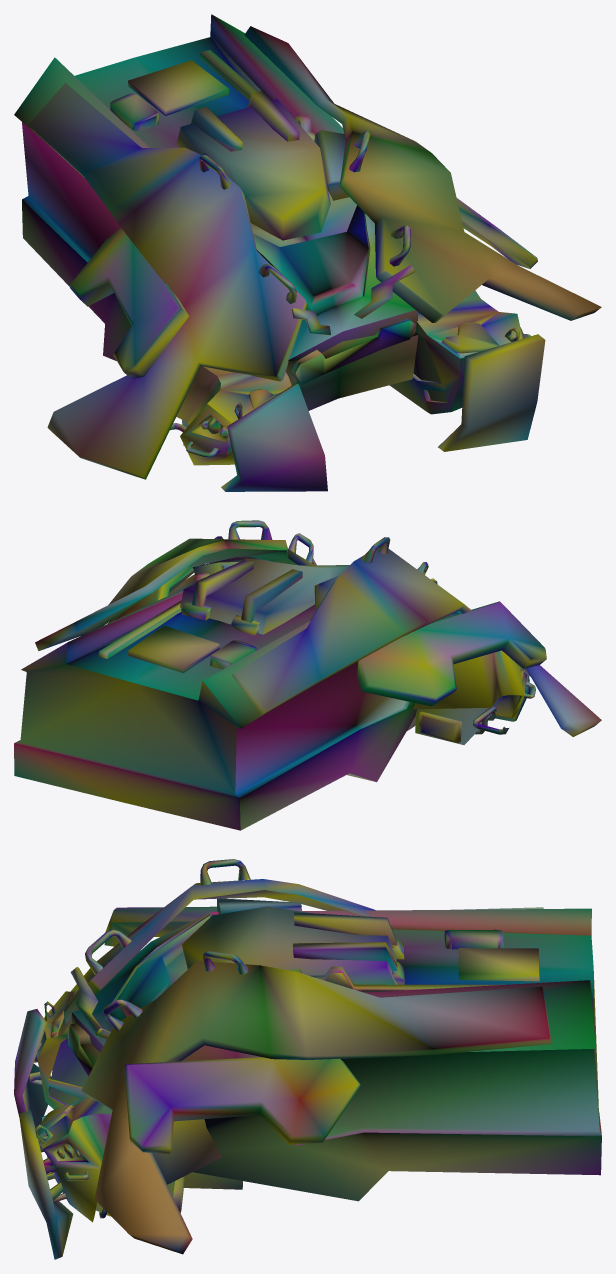
File: ASE_Beowulf_Gib_Body.gltf
3 views of the same model, one above another, from view 1: azimuth 30°, elevation 25°; view 2: azimuth 150°, elevation 25°; view 3: azimuth 270°, elevation 25° (orthographic). The views are drawn at different scales.
Parts seen in each view (by area): view 1: ASE_Beowulf_Gib_Body; view 2: ASE_Beowulf_Gib_Body; view 3: ASE_Beowulf_Gib_Body.
Part boxes in pixels (x1,y1,x2,y2): ASE_Beowulf_Gib_Body: (14,14,601,491); ASE_Beowulf_Gib_Body: (14,520,601,830); ASE_Beowulf_Gib_Body: (14,859,601,1259).
Size of the model in its own units: 2.8 by 1.36 by 2.55.
